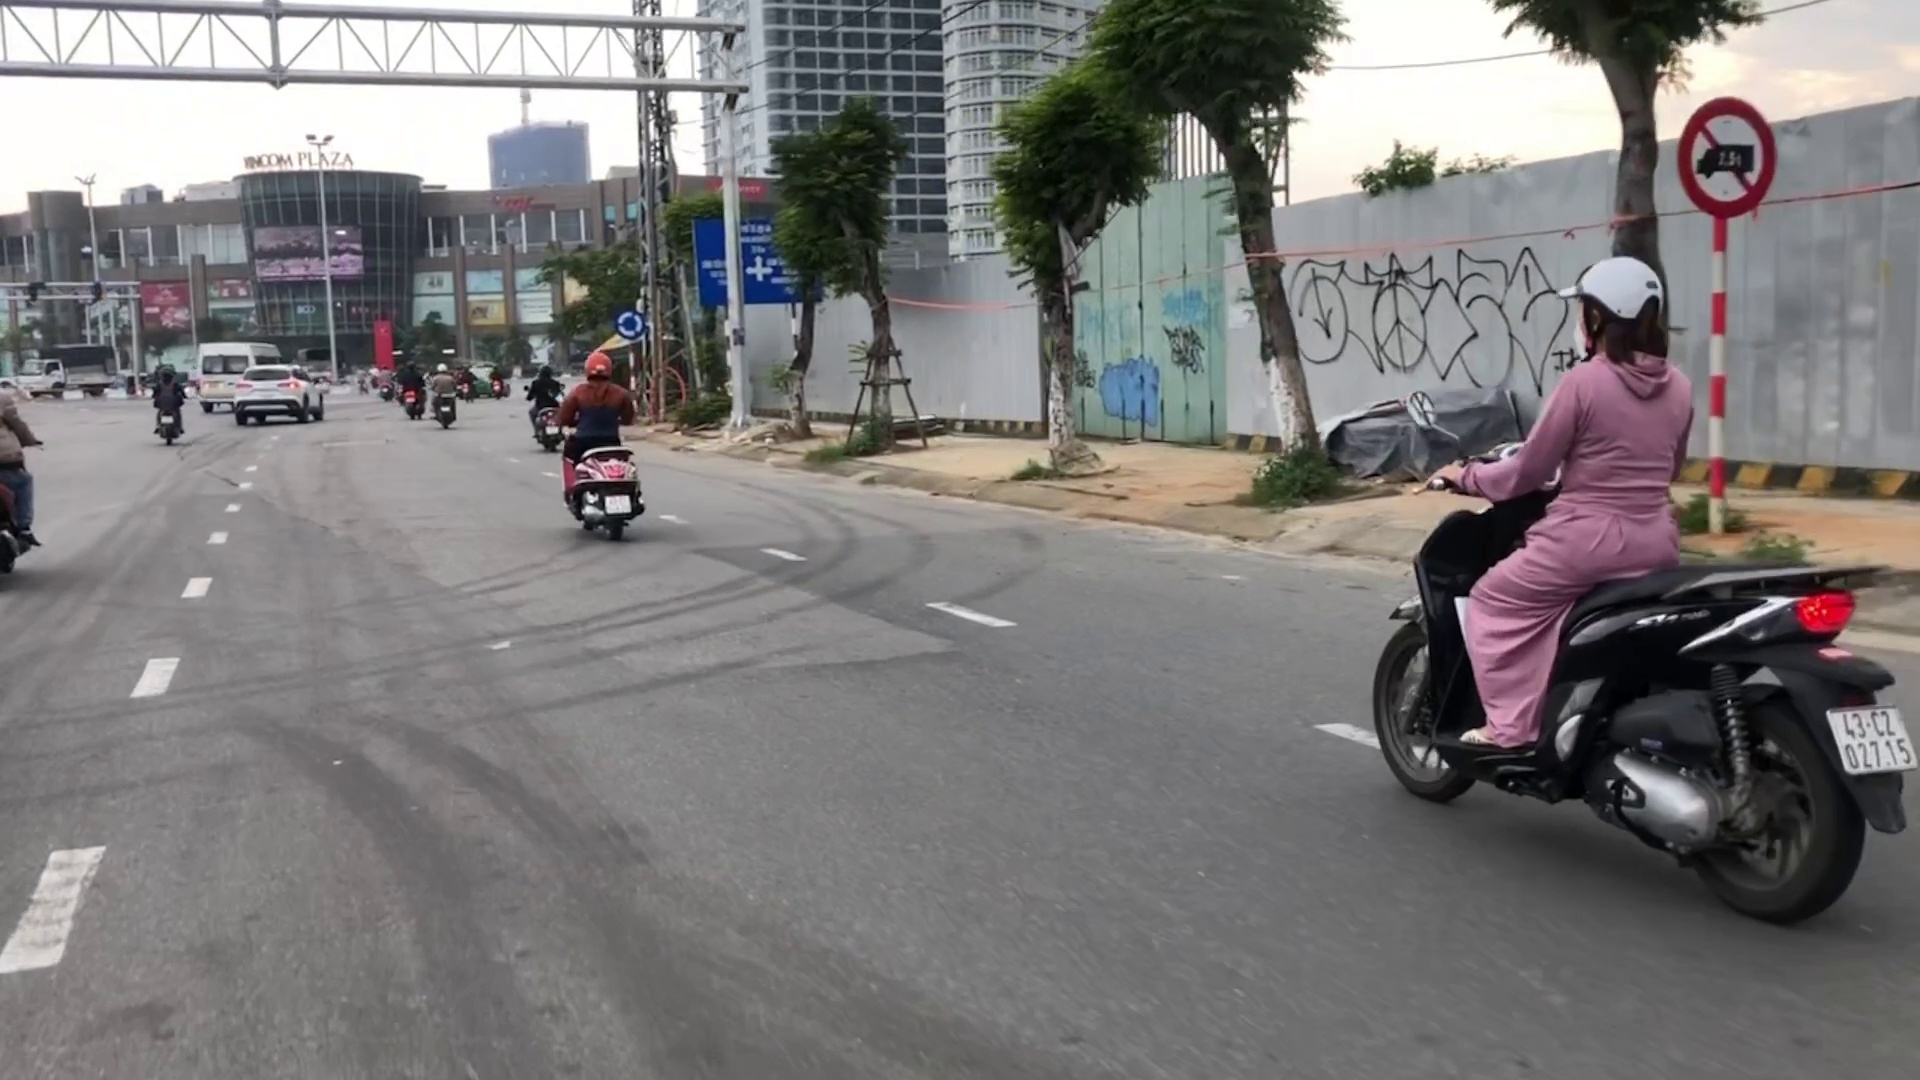Bien khac: (1677, 91, 1778, 222), (613, 306, 646, 340)
